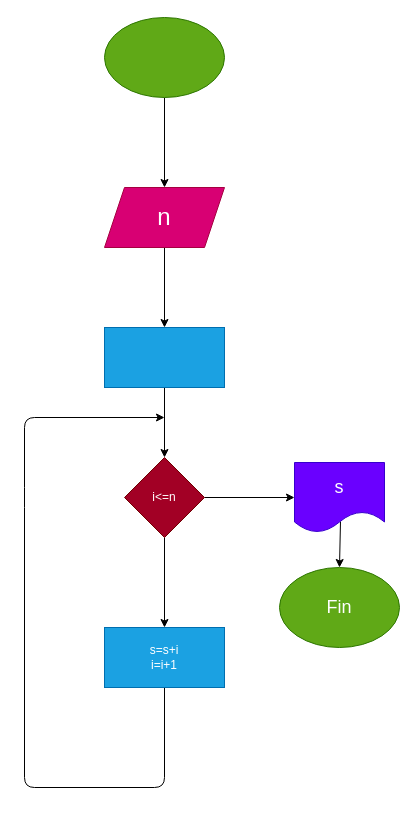
The diagram is 417 pixels wide and 813 high, and some of its shapes have lost their labels. The centre of each missing label's shape, as x and y in pixels:
"Inicio" goes at (x=164, y=57).
"s=0 i=1" goes at (x=164, y=357).
